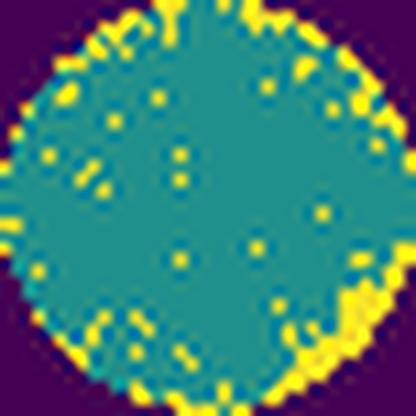Edge-Loc: (160, 231, 414, 416)
